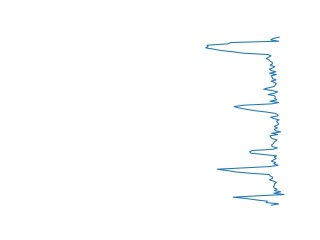distalBar: (200, 32, 283, 88)
interdistributaryEstuary: (230, 87, 286, 141)
underwaterNaturalLevee: (214, 142, 288, 208)
